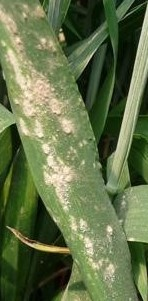Powdery Mildew: (20, 75, 124, 269)
